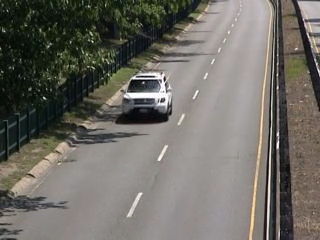car: (117, 69, 178, 123)
